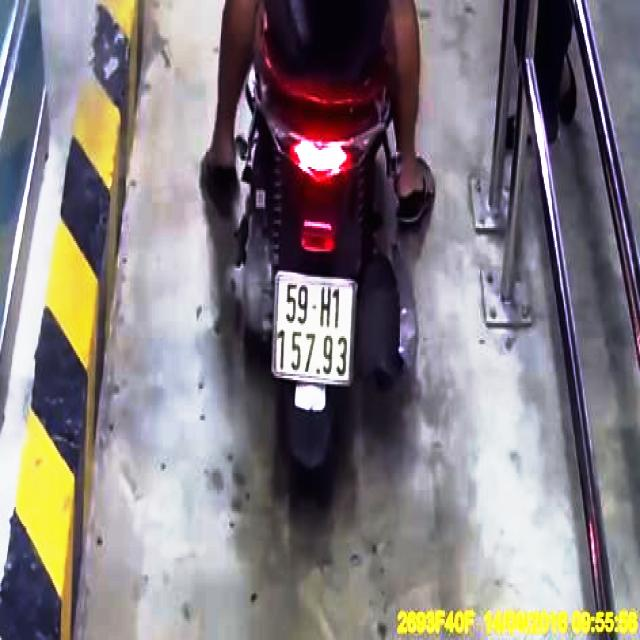license_plate: (276, 268, 357, 384)
